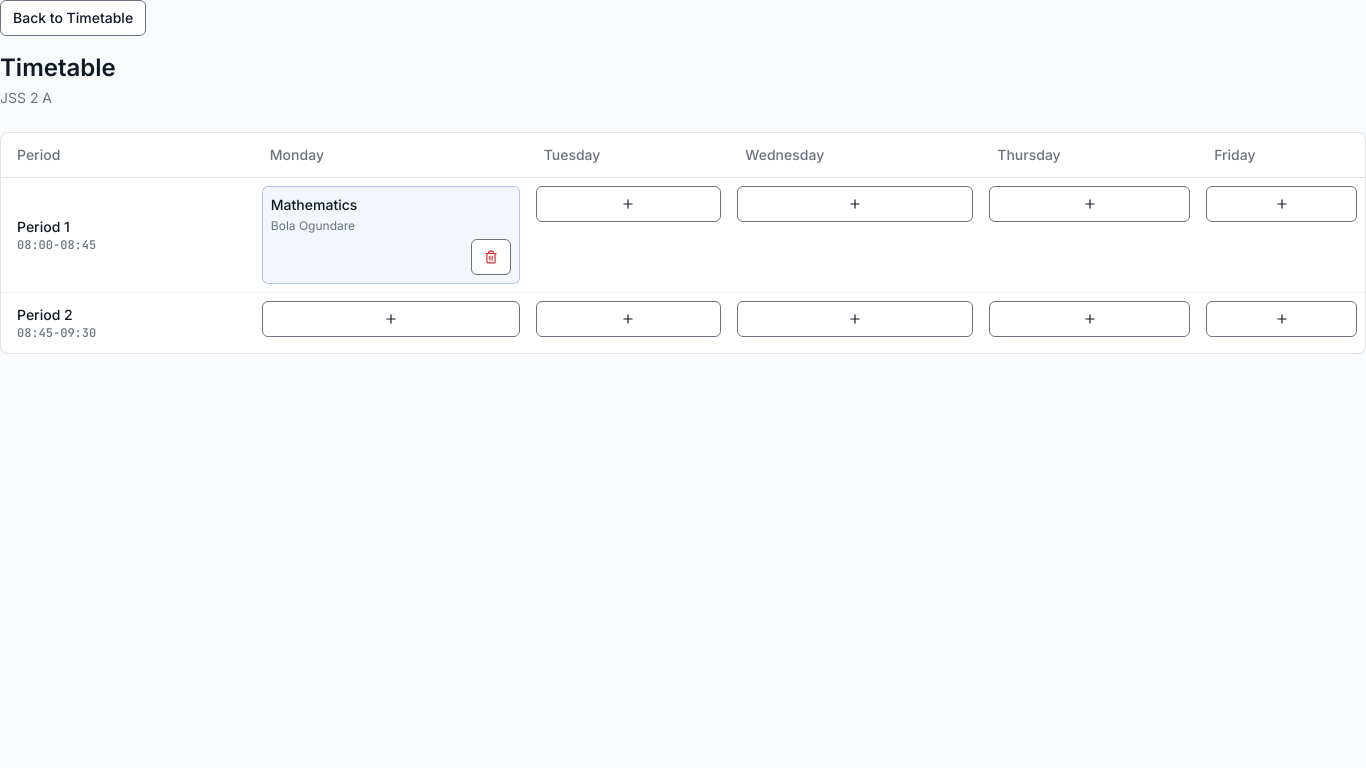
Test: TimetableBuilderPage › Remove deletes a slot after confirming
Expected: the text "Mathematics" is shown, [271, 196, 357, 213]
Step 1. Click the button named "Remove Mathematics on Monday Period 1" → coordinates (491, 257), box [471, 239, 511, 275]
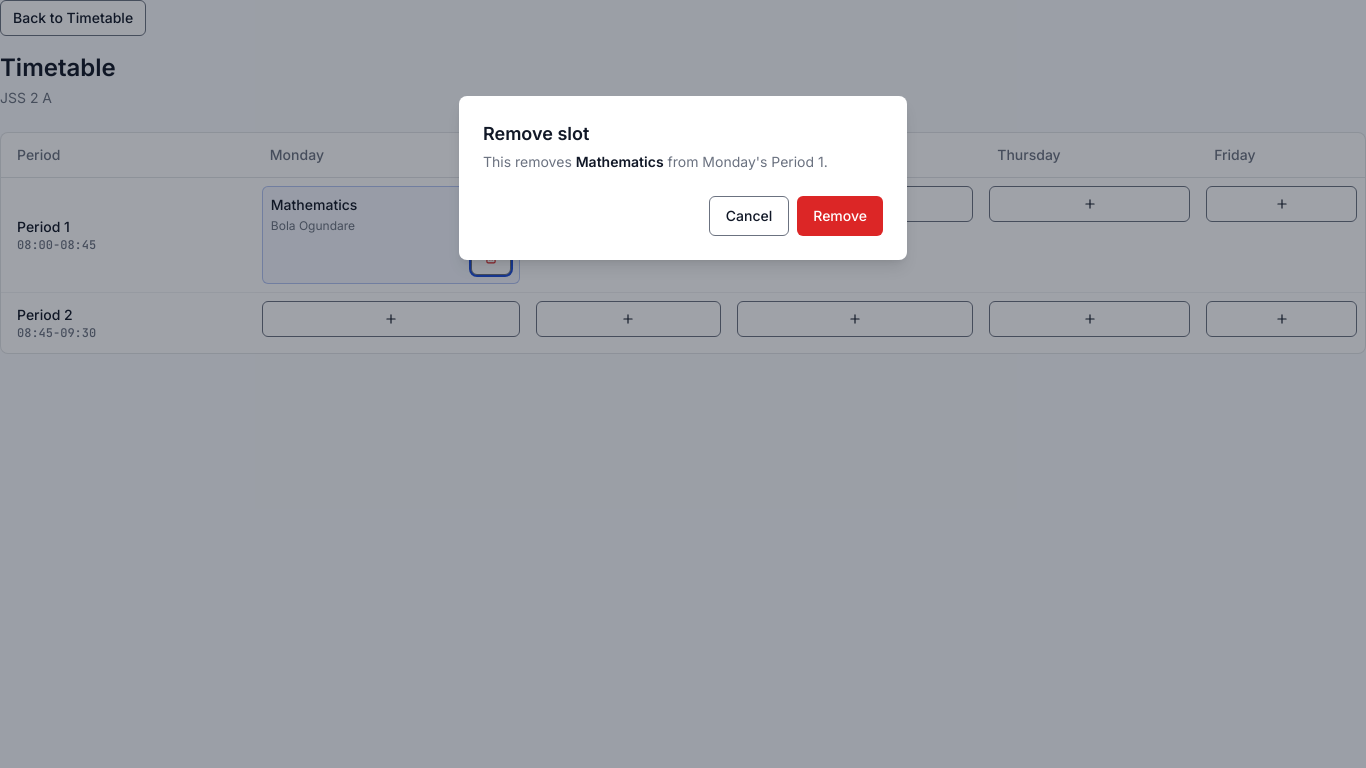
Step 2. Click the button "Remove" → coordinates (840, 216), box [797, 196, 883, 236]
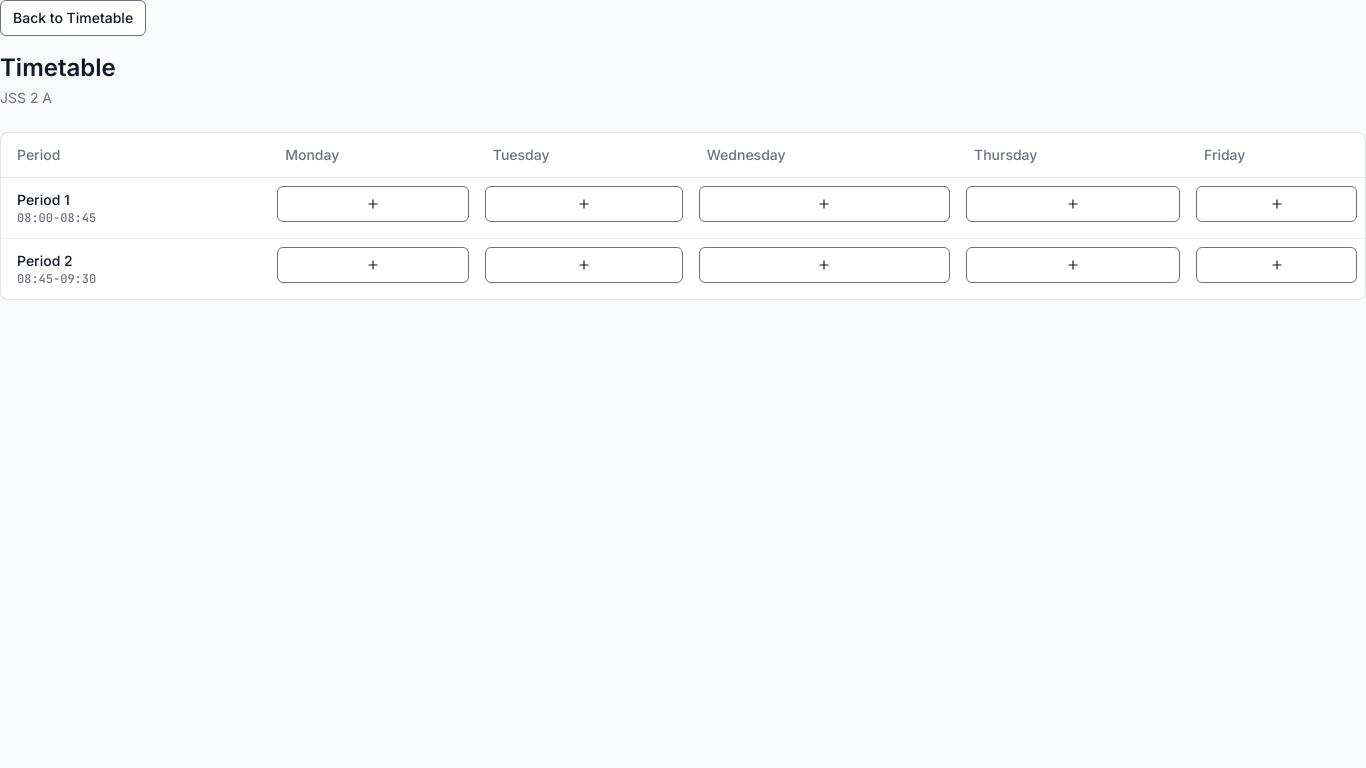
Expected: the button named "Assign a subject on Monday Period 1" is shown, [277, 186, 469, 222]
Expected: the button "Mathematics" is gone
